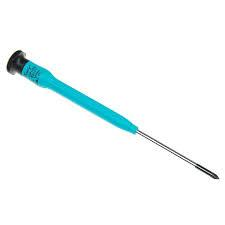screwdriver: (5, 48, 219, 179)
